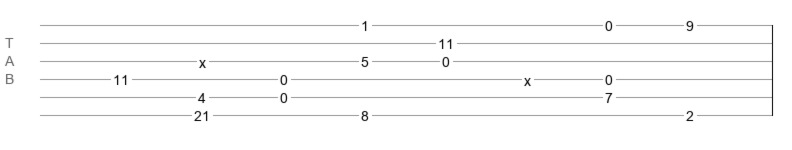0: (280, 72, 288, 82), (280, 90, 288, 100), (442, 54, 450, 64), (605, 72, 613, 82), (605, 18, 613, 28)
1: (361, 18, 369, 28)
11: (113, 72, 129, 82), (438, 36, 454, 46)
2: (686, 108, 694, 118)
21: (194, 108, 210, 118)
4: (198, 90, 206, 100)
5: (361, 54, 369, 64)
7: (605, 90, 613, 100)
8: (361, 108, 369, 118)
9: (686, 18, 694, 28)
x: (199, 55, 206, 63), (524, 73, 531, 81)
